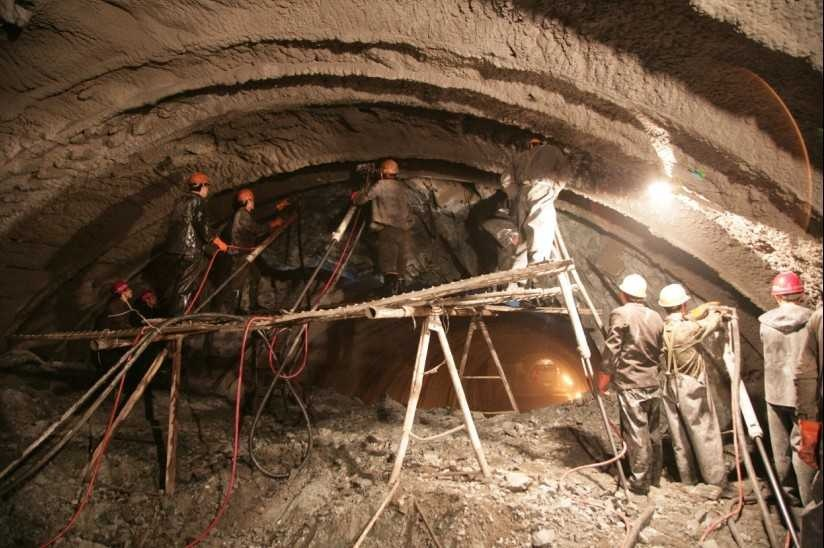red: (771, 269, 806, 306), (112, 279, 132, 302), (140, 289, 157, 307)
white: (658, 281, 687, 316), (619, 271, 647, 306)
yellow: (186, 170, 210, 198), (233, 186, 256, 211), (378, 159, 399, 183)
